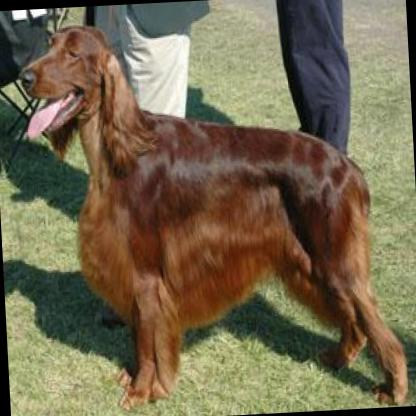Irish_setter: (10, 5, 410, 416)
